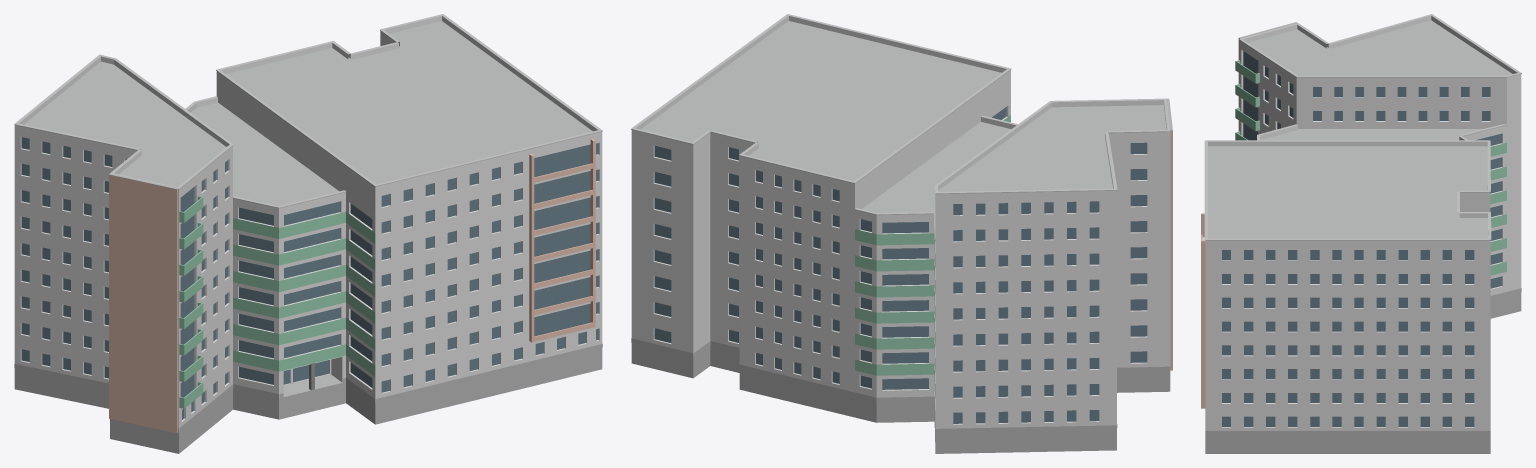
3 renders of one model, left to right at view 1: azimuth 30°, elevation 25°; view 2: azimuth 150°, elevation 25°; view 3: azimuth 270°, elevation 25°, orthographic. The views are drawn at different scales.
Visible parts, largest first — view 1: dasomGwanW4_3__wall, dasomGwanW4_3__roof, dasomGwanW4_3__glass, dasomGwanW4_3__pink, dasomGwanW4_3__base, dasomGwanW4_3__wall2, dasomGwanW4_3__parapet, dasomGwanW4_3__trim, dasomGwanW4_3__frame; view 2: dasomGwanW4_3__wall, dasomGwanW4_3__roof, dasomGwanW4_3__glass, dasomGwanW4_3__base, dasomGwanW4_3__parapet, dasomGwanW4_3__wall2, dasomGwanW4_3__trim, dasomGwanW4_3__pink; view 3: dasomGwanW4_3__wall, dasomGwanW4_3__roof, dasomGwanW4_3__glass, dasomGwanW4_3__base, dasomGwanW4_3__parapet, dasomGwanW4_3__trim, dasomGwanW4_3__wall2, dasomGwanW4_3__pink.
Boxes of the visible parts, box(x1,y1,x2,y2) form: dasomGwanW4_3__wall: box(14, 35, 602, 432); dasomGwanW4_3__roof: box(24, 21, 592, 396); dasomGwanW4_3__glass: box(21, 137, 598, 419); dasomGwanW4_3__pink: box(109, 139, 595, 433); dasomGwanW4_3__base: box(14, 344, 602, 453); dasomGwanW4_3__wall2: box(179, 196, 375, 408); dasomGwanW4_3__parapet: box(14, 16, 602, 212); dasomGwanW4_3__trim: box(14, 14, 602, 208); dasomGwanW4_3__frame: box(180, 147, 589, 397); dasomGwanW4_3__wall: box(631, 74, 1170, 428); dasomGwanW4_3__roof: box(641, 21, 1172, 212); dasomGwanW4_3__glass: box(654, 107, 1147, 423); dasomGwanW4_3__base: box(631, 338, 1170, 453); dasomGwanW4_3__parapet: box(631, 16, 1170, 238); dasomGwanW4_3__wall2: box(855, 115, 1010, 394); dasomGwanW4_3__trim: box(631, 14, 1170, 237); dasomGwanW4_3__pink: box(1170, 130, 1172, 370); dasomGwanW4_3__wall: box(1205, 44, 1521, 430); dasomGwanW4_3__roof: box(1208, 20, 1512, 238); dasomGwanW4_3__glass: box(1222, 51, 1501, 426); dasomGwanW4_3__base: box(1205, 288, 1521, 453); dasomGwanW4_3__parapet: box(1205, 15, 1521, 244); dasomGwanW4_3__trim: box(1204, 14, 1521, 240); dasomGwanW4_3__wall2: box(1235, 60, 1506, 275); dasomGwanW4_3__pink: box(1201, 23, 1295, 408).
Size of the model in its own units: 56.51 by 31.05 by 37.87.
